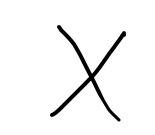mult: (52, 23, 128, 125)
